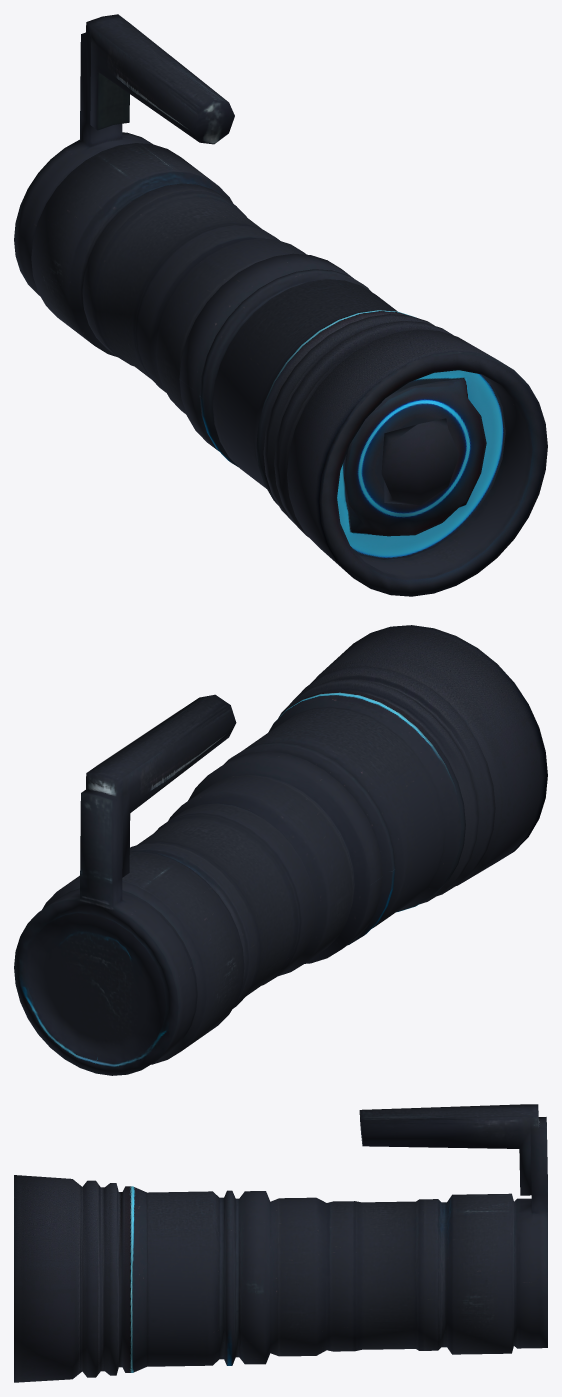
File: senter.glb
The picture shows the model from 3 angles, top to bottom: view 1: azimuth 30°, elevation 25°; view 2: azimuth 150°, elevation 25°; view 3: azimuth 270°, elevation 25°; orthographic projection. The views are drawn at different scales.
Parts seen in each view (by area): view 1: Circle; view 2: Circle; view 3: Circle.
Boxes of the visible parts, x1,y1,x2,y2 form: Circle: (14,14,547,596); Circle: (14,625,547,1075); Circle: (14,1104,547,1382).
Bounding box in the file's own units: 0.3896 × 0.5456 × 1.
Materials: 1 (1 with a texture image).
